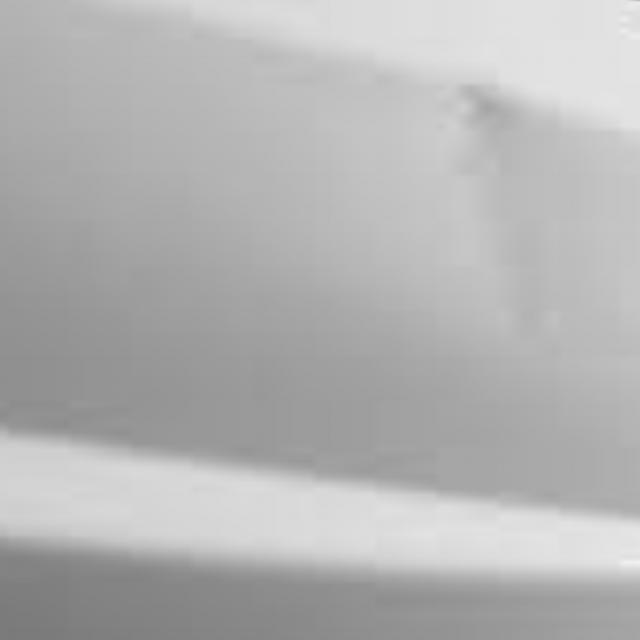dents: (422, 64, 571, 194), (480, 282, 579, 384)
